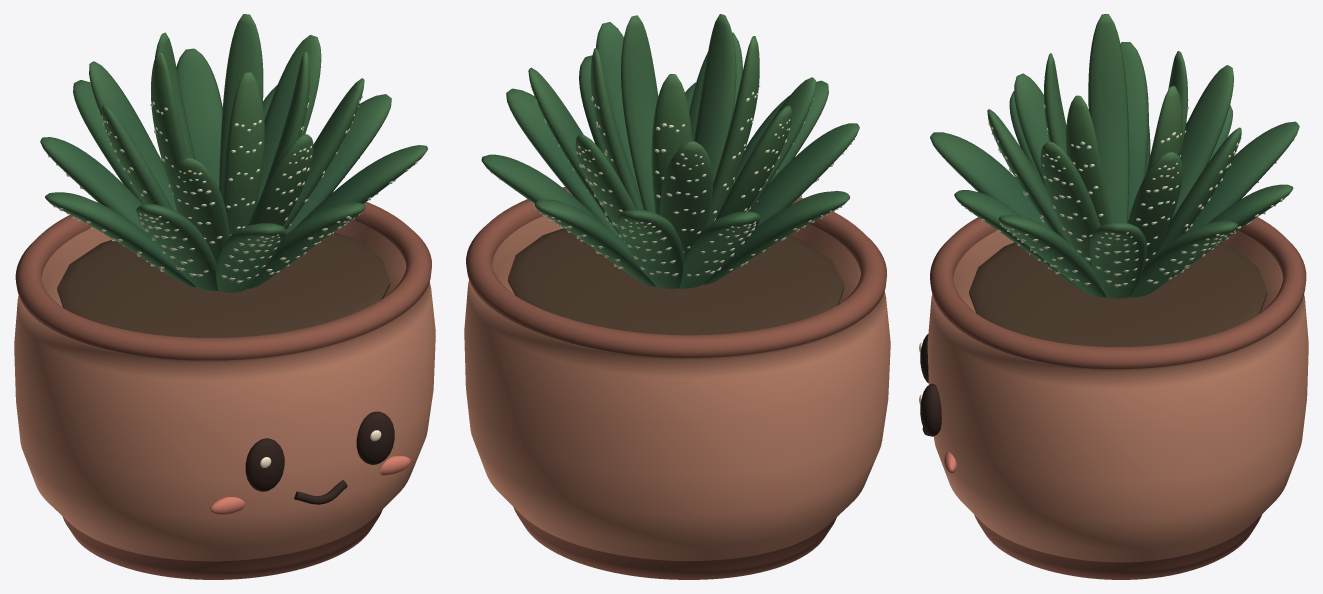
The model's file is zebra-haworthia-v1.glb.
3 views of the same model, side by side, from view 1: azimuth 30°, elevation 25°; view 2: azimuth 150°, elevation 25°; view 3: azimuth 270°, elevation 25° (orthographic). The views are drawn at different scales.
Parts seen in each view (by area): view 1: Wheel-thrown ceramic, Foliage draw mesh, Soil, Eye, Eye.001, Smile; view 2: Wheel-thrown ceramic, Foliage draw mesh, Soil; view 3: Wheel-thrown ceramic, Foliage draw mesh, Soil, Eye.001.
Part boxes in pixels (bbox=[...]): Wheel-thrown ceramic: bbox=[14, 191, 435, 579]; Foliage draw mesh: bbox=[40, 14, 427, 292]; Soil: bbox=[57, 232, 390, 337]; Eye: bbox=[245, 438, 284, 491]; Eye.001: bbox=[356, 411, 394, 464]; Smile: bbox=[294, 480, 347, 504]; Wheel-thrown ceramic: bbox=[464, 187, 890, 579]; Foliage draw mesh: bbox=[481, 14, 859, 288]; Soil: bbox=[508, 228, 844, 335]; Wheel-thrown ceramic: bbox=[927, 217, 1308, 579]; Foliage draw mesh: bbox=[930, 14, 1299, 298]; Soil: bbox=[969, 242, 1267, 346]; Eye.001: bbox=[920, 383, 941, 436].
Bounding box in the file's own units: 1.62 × 2.05 × 1.53.
